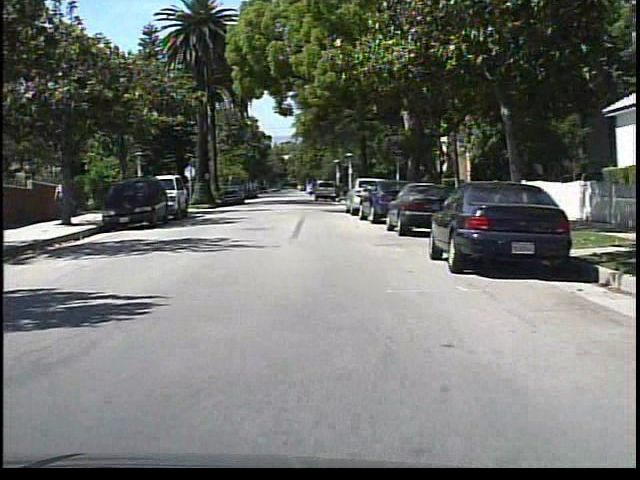person: (53, 176, 72, 223)
